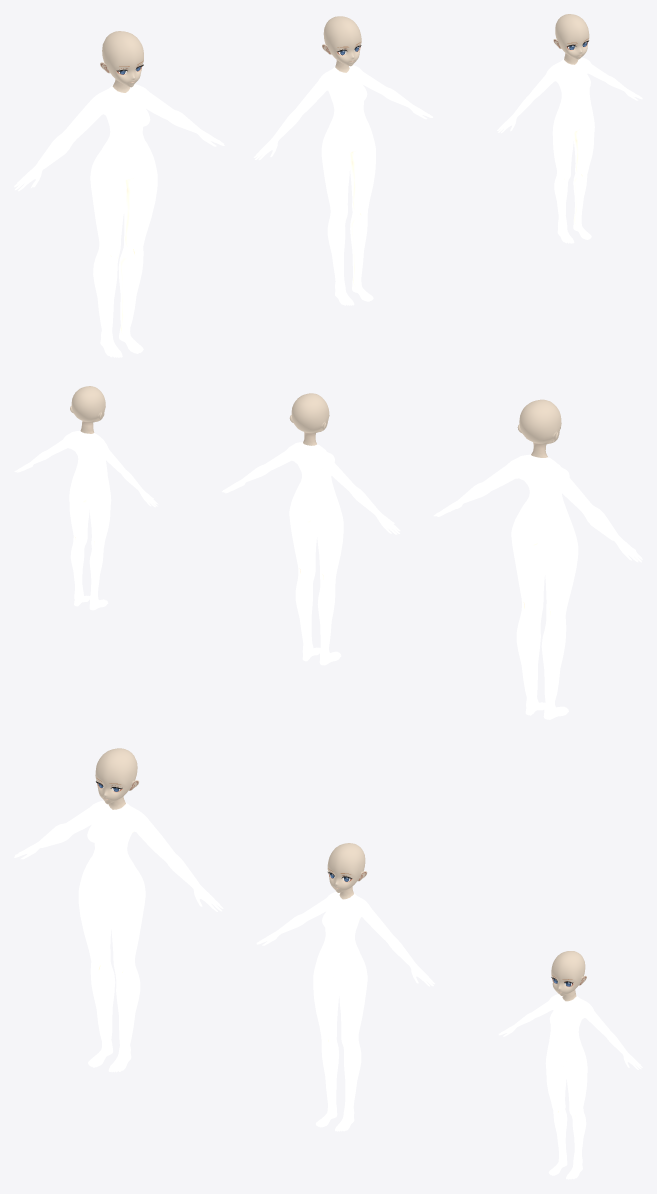
The model's file is anime-girl-base-meshes.glb.
3 views of the same model, one above another, from view 1: azimuth 30°, elevation 25°; view 2: azimuth 150°, elevation 25°; view 3: azimuth 330°, elevation 25° (orthographic).
Parts seen in each view (by area): view 1: Object_8, Object_5, SmallBody, Object_7, Object_4, SmallHead; view 2: Object_8, Object_5, SmallBody, Object_7, Object_4, SmallHead; view 3: Object_8, Object_5, SmallBody, Object_7, Object_4, SmallHead.
Boxes of the visible parts, bbox=[...] form: Object_8: bbox=[14, 84, 224, 357]; Object_5: bbox=[253, 65, 432, 305]; SmallBody: bbox=[497, 57, 642, 243]; Object_7: bbox=[100, 31, 143, 92]; Object_4: bbox=[322, 16, 361, 72]; SmallHead: bbox=[553, 14, 589, 64]; Object_8: bbox=[433, 454, 642, 719]; Object_5: bbox=[222, 442, 400, 665]; SmallBody: bbox=[14, 430, 158, 610]; Object_7: bbox=[517, 399, 561, 457]; Object_4: bbox=[289, 393, 329, 445]; SmallHead: bbox=[70, 386, 105, 433]; Object_8: bbox=[14, 800, 223, 1072]; Object_5: bbox=[256, 892, 434, 1131]; SmallBody: bbox=[498, 994, 642, 1179]; Object_7: bbox=[95, 748, 138, 809]; Object_4: bbox=[327, 843, 367, 899]; SmallHead: bbox=[551, 951, 586, 1001].
Bounding box in the file's own units: 5.56 × 2.68 × 0.4845.
2 materials, 1 textured.
